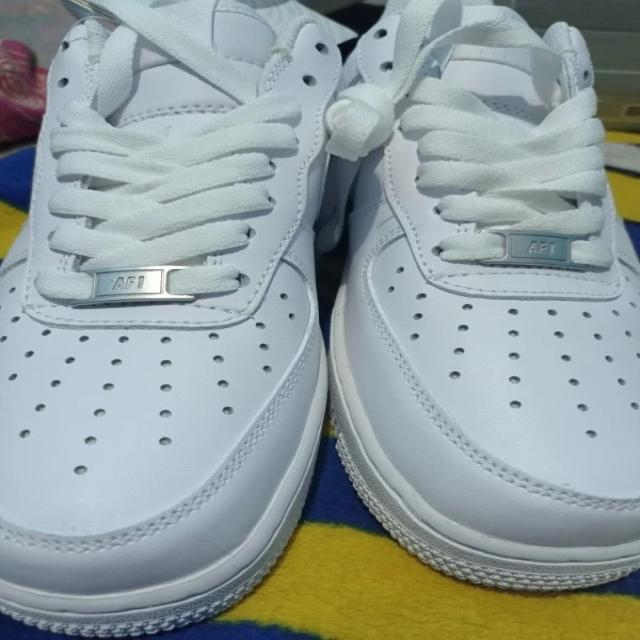nike original air force: (0, 0, 341, 637), (320, 0, 640, 591)
